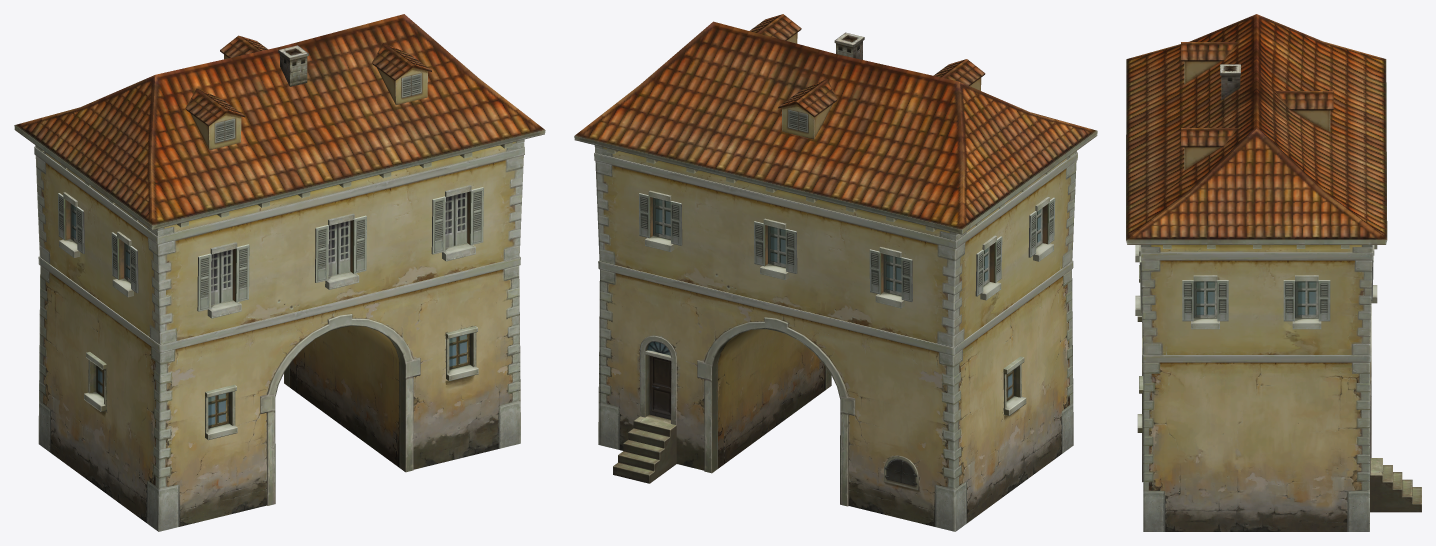
The model's file is townhousemedium2.fbx.
The picture shows the model from 3 angles, left to right: view 1: azimuth 30°, elevation 25°; view 2: azimuth 150°, elevation 25°; view 3: azimuth 270°, elevation 25°; orthographic projection. The views are drawn at different scales.
Parts seen in each view (by area): view 1: GEOM0_LOD0; view 2: GEOM0_LOD0; view 3: GEOM0_LOD0.
Boxes of the visible parts, bbox=[...] form: GEOM0_LOD0: bbox=[14, 14, 545, 531]; GEOM0_LOD0: bbox=[574, 14, 1097, 531]; GEOM0_LOD0: bbox=[1126, 14, 1421, 531].
Size of what is drawn, in the model's own units: 1282 by 1252 by 885.
